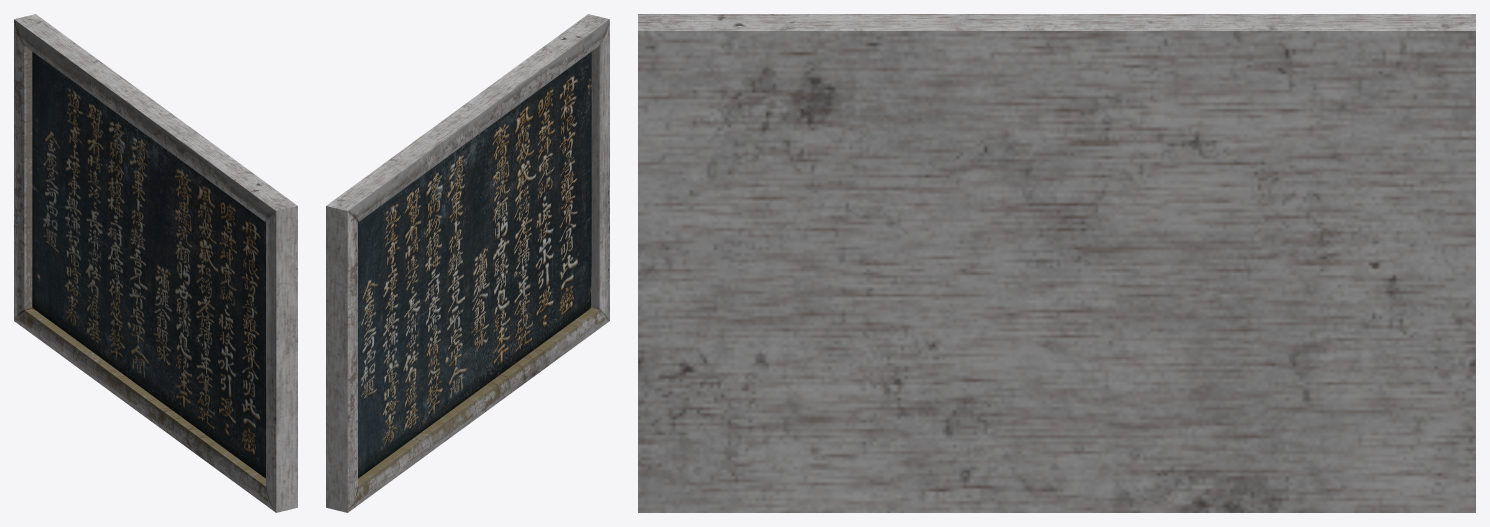
File: SM_JWD_Tablet01f.fbx
3 views of the same model, side by side, from view 1: azimuth 30°, elevation 25°; view 2: azimuth 150°, elevation 25°; view 3: azimuth 270°, elevation 25° (orthographic). The views are drawn at different scales.
Parts seen in each view (by area): view 1: SM_JWD_Tablet01f; view 2: SM_JWD_Tablet01f; view 3: SM_JWD_Tablet01f.
Boxes of the visible parts, box(x1,y1,x2,y2) form: SM_JWD_Tablet01f: box(14, 14, 297, 512); SM_JWD_Tablet01f: box(326, 14, 609, 512); SM_JWD_Tablet01f: box(638, 14, 1475, 512).
Bounding box in the file's own units: 3.23 × 63 × 40.
Materials: 1 (1 with a texture image).
